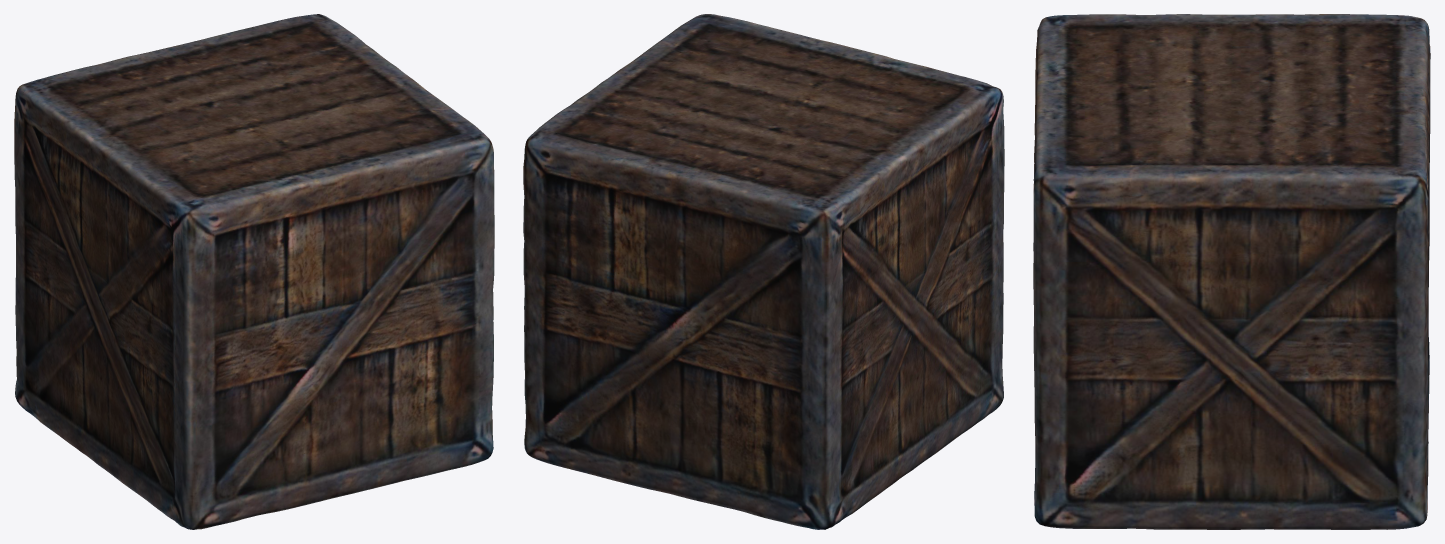
File: cc220f2b5b8a_Crates__wooden_text.fbx
The picture shows the model from 3 angles, left to right: view 1: azimuth 30°, elevation 25°; view 2: azimuth 150°, elevation 25°; view 3: azimuth 270°, elevation 25°; orthographic projection. The views are drawn at different scales.
Visible parts, largest first — view 1: mesh; view 2: mesh; view 3: mesh.
Boxes of the visible parts, x1=… form: mesh: x1=14, y1=14, x2=494, y2=529; mesh: x1=523, y1=14, x2=1004, y2=529; mesh: x1=1033, y1=14, x2=1430, y2=529.
Size of the model in its own units: 99.73 by 99.08 by 99.89.
